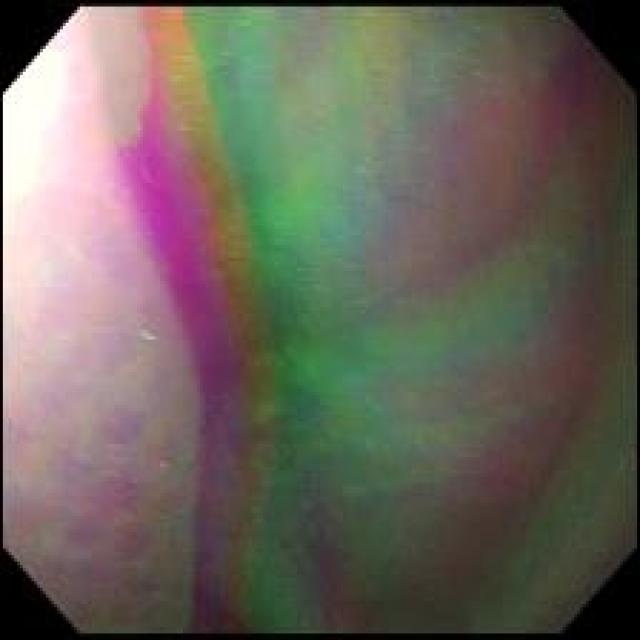color misalignment: (3, 5, 638, 640)
saturation: (4, 41, 72, 207)
